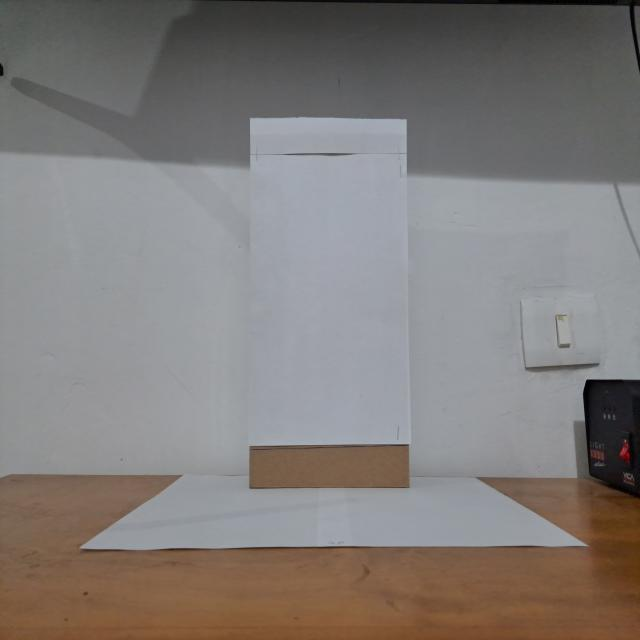wall: (245, 106, 417, 497)
